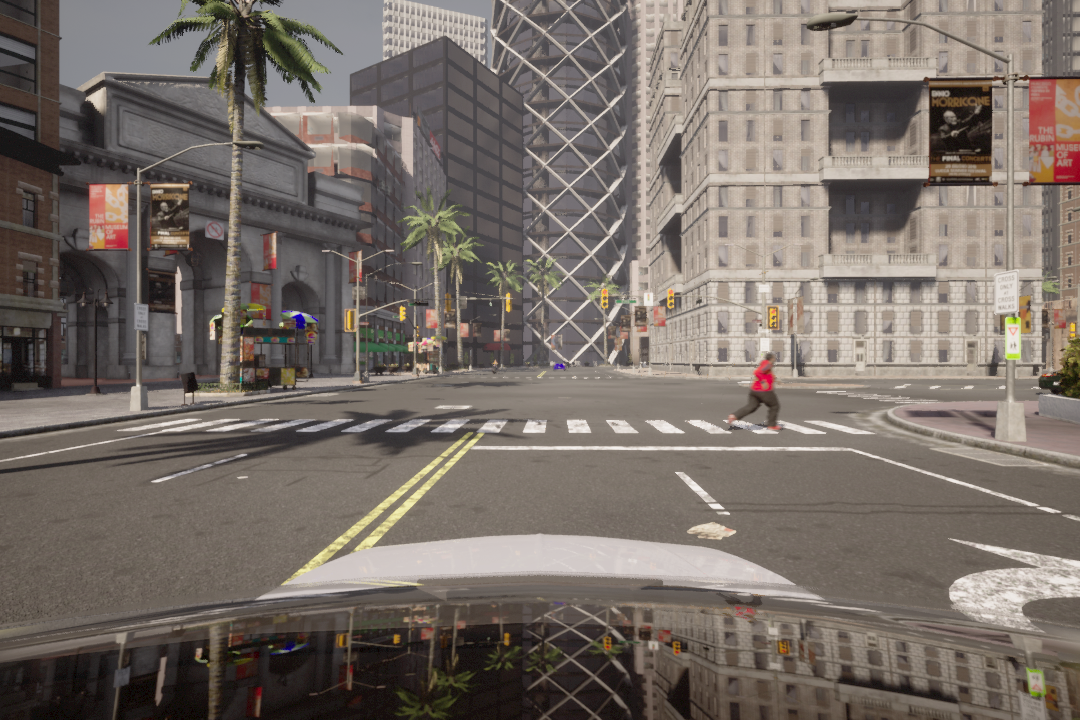TrafficLight: (767, 307, 778, 332), (600, 287, 611, 311), (666, 289, 676, 311)
TrafficSign: (207, 221, 224, 239)
walkside: (135, 411, 872, 440)
